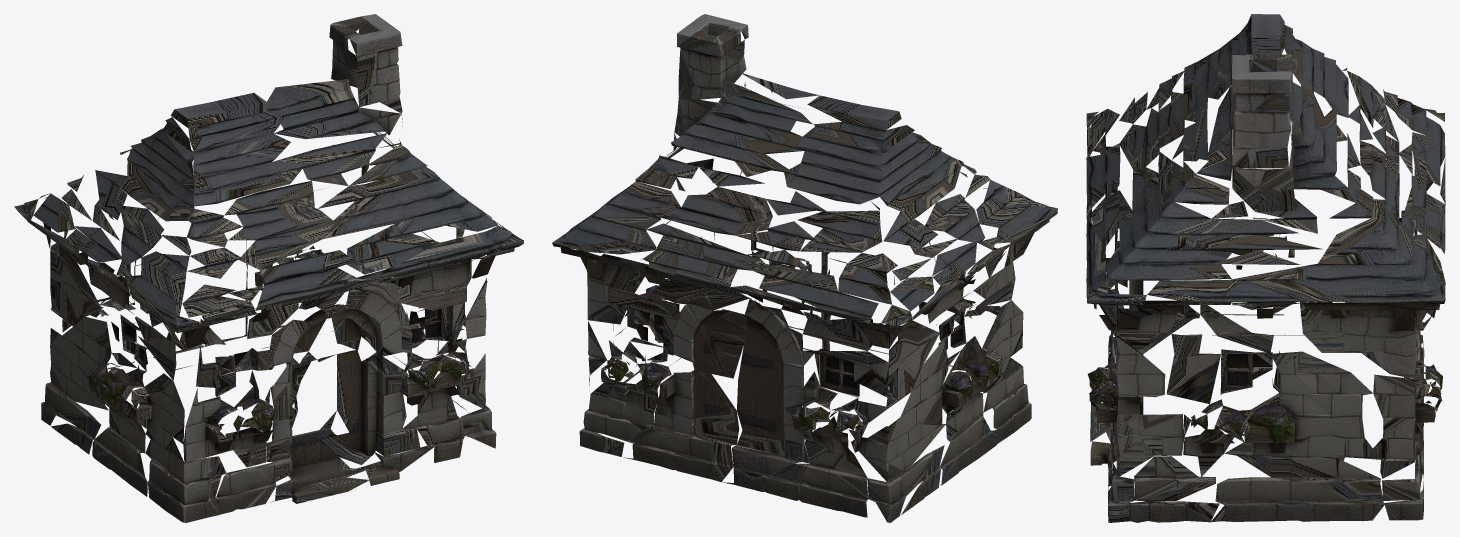
The model's file is bld_house_npc_i_a_LOD1.glb.
3 views of the same model, side by side, from view 1: azimuth 30°, elevation 25°; view 2: azimuth 150°, elevation 25°; view 3: azimuth 270°, elevation 25° (orthographic). The views are drawn at different scales.
Parts seen in each view (by area): view 1: geometry_0; view 2: geometry_0; view 3: geometry_0.
Part boxes in pixels (x1=…): geometry_0: x1=14, y1=14, x2=523, y2=522; geometry_0: x1=552, y1=14, x2=1057, y2=522; geometry_0: x1=1086, y1=14, x2=1445, y2=522.
Size of the model in its own units: 4.74 by 5 by 3.84.
Materials: 1 (1 with a texture image).
